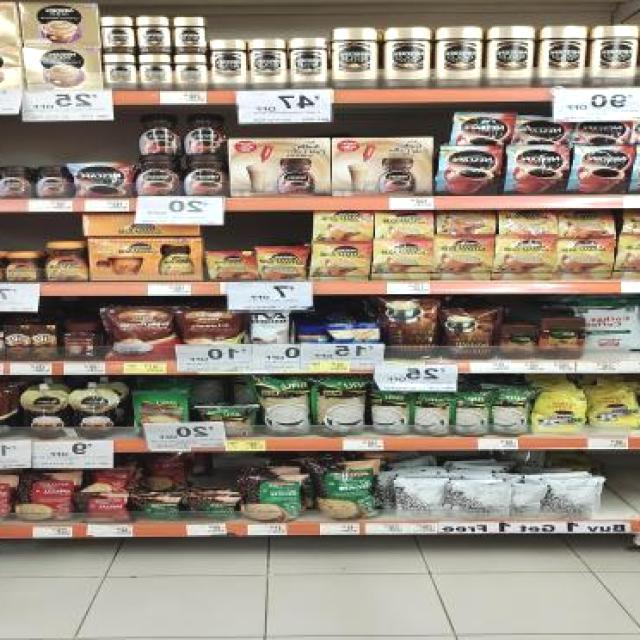Coffee: (590, 27, 638, 88), (442, 147, 499, 195), (488, 27, 532, 88), (384, 28, 428, 89), (334, 28, 376, 91), (436, 27, 479, 88), (510, 147, 564, 195), (541, 27, 584, 87), (574, 148, 630, 194), (497, 238, 552, 278), (436, 237, 488, 279), (559, 238, 611, 280), (313, 242, 367, 280), (377, 242, 430, 280), (210, 40, 246, 91), (76, 163, 128, 198), (136, 155, 179, 196), (252, 39, 286, 90), (454, 114, 511, 144), (292, 38, 324, 89), (316, 210, 370, 239), (46, 242, 85, 282), (258, 248, 306, 280), (187, 156, 224, 197), (378, 210, 431, 238), (560, 208, 612, 236), (142, 114, 178, 154), (187, 114, 222, 154), (502, 209, 554, 235), (36, 166, 71, 199), (516, 122, 566, 145), (175, 54, 205, 91), (175, 16, 205, 52), (104, 54, 134, 90), (578, 121, 628, 142), (141, 54, 170, 90), (140, 16, 168, 52), (104, 16, 132, 52), (0, 167, 29, 198), (6, 252, 36, 281)
